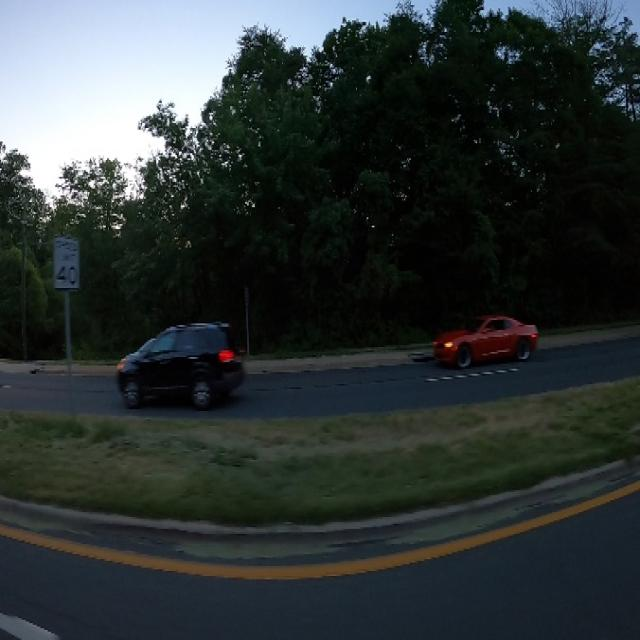Cars: (108, 318, 242, 401), (428, 316, 540, 369)
